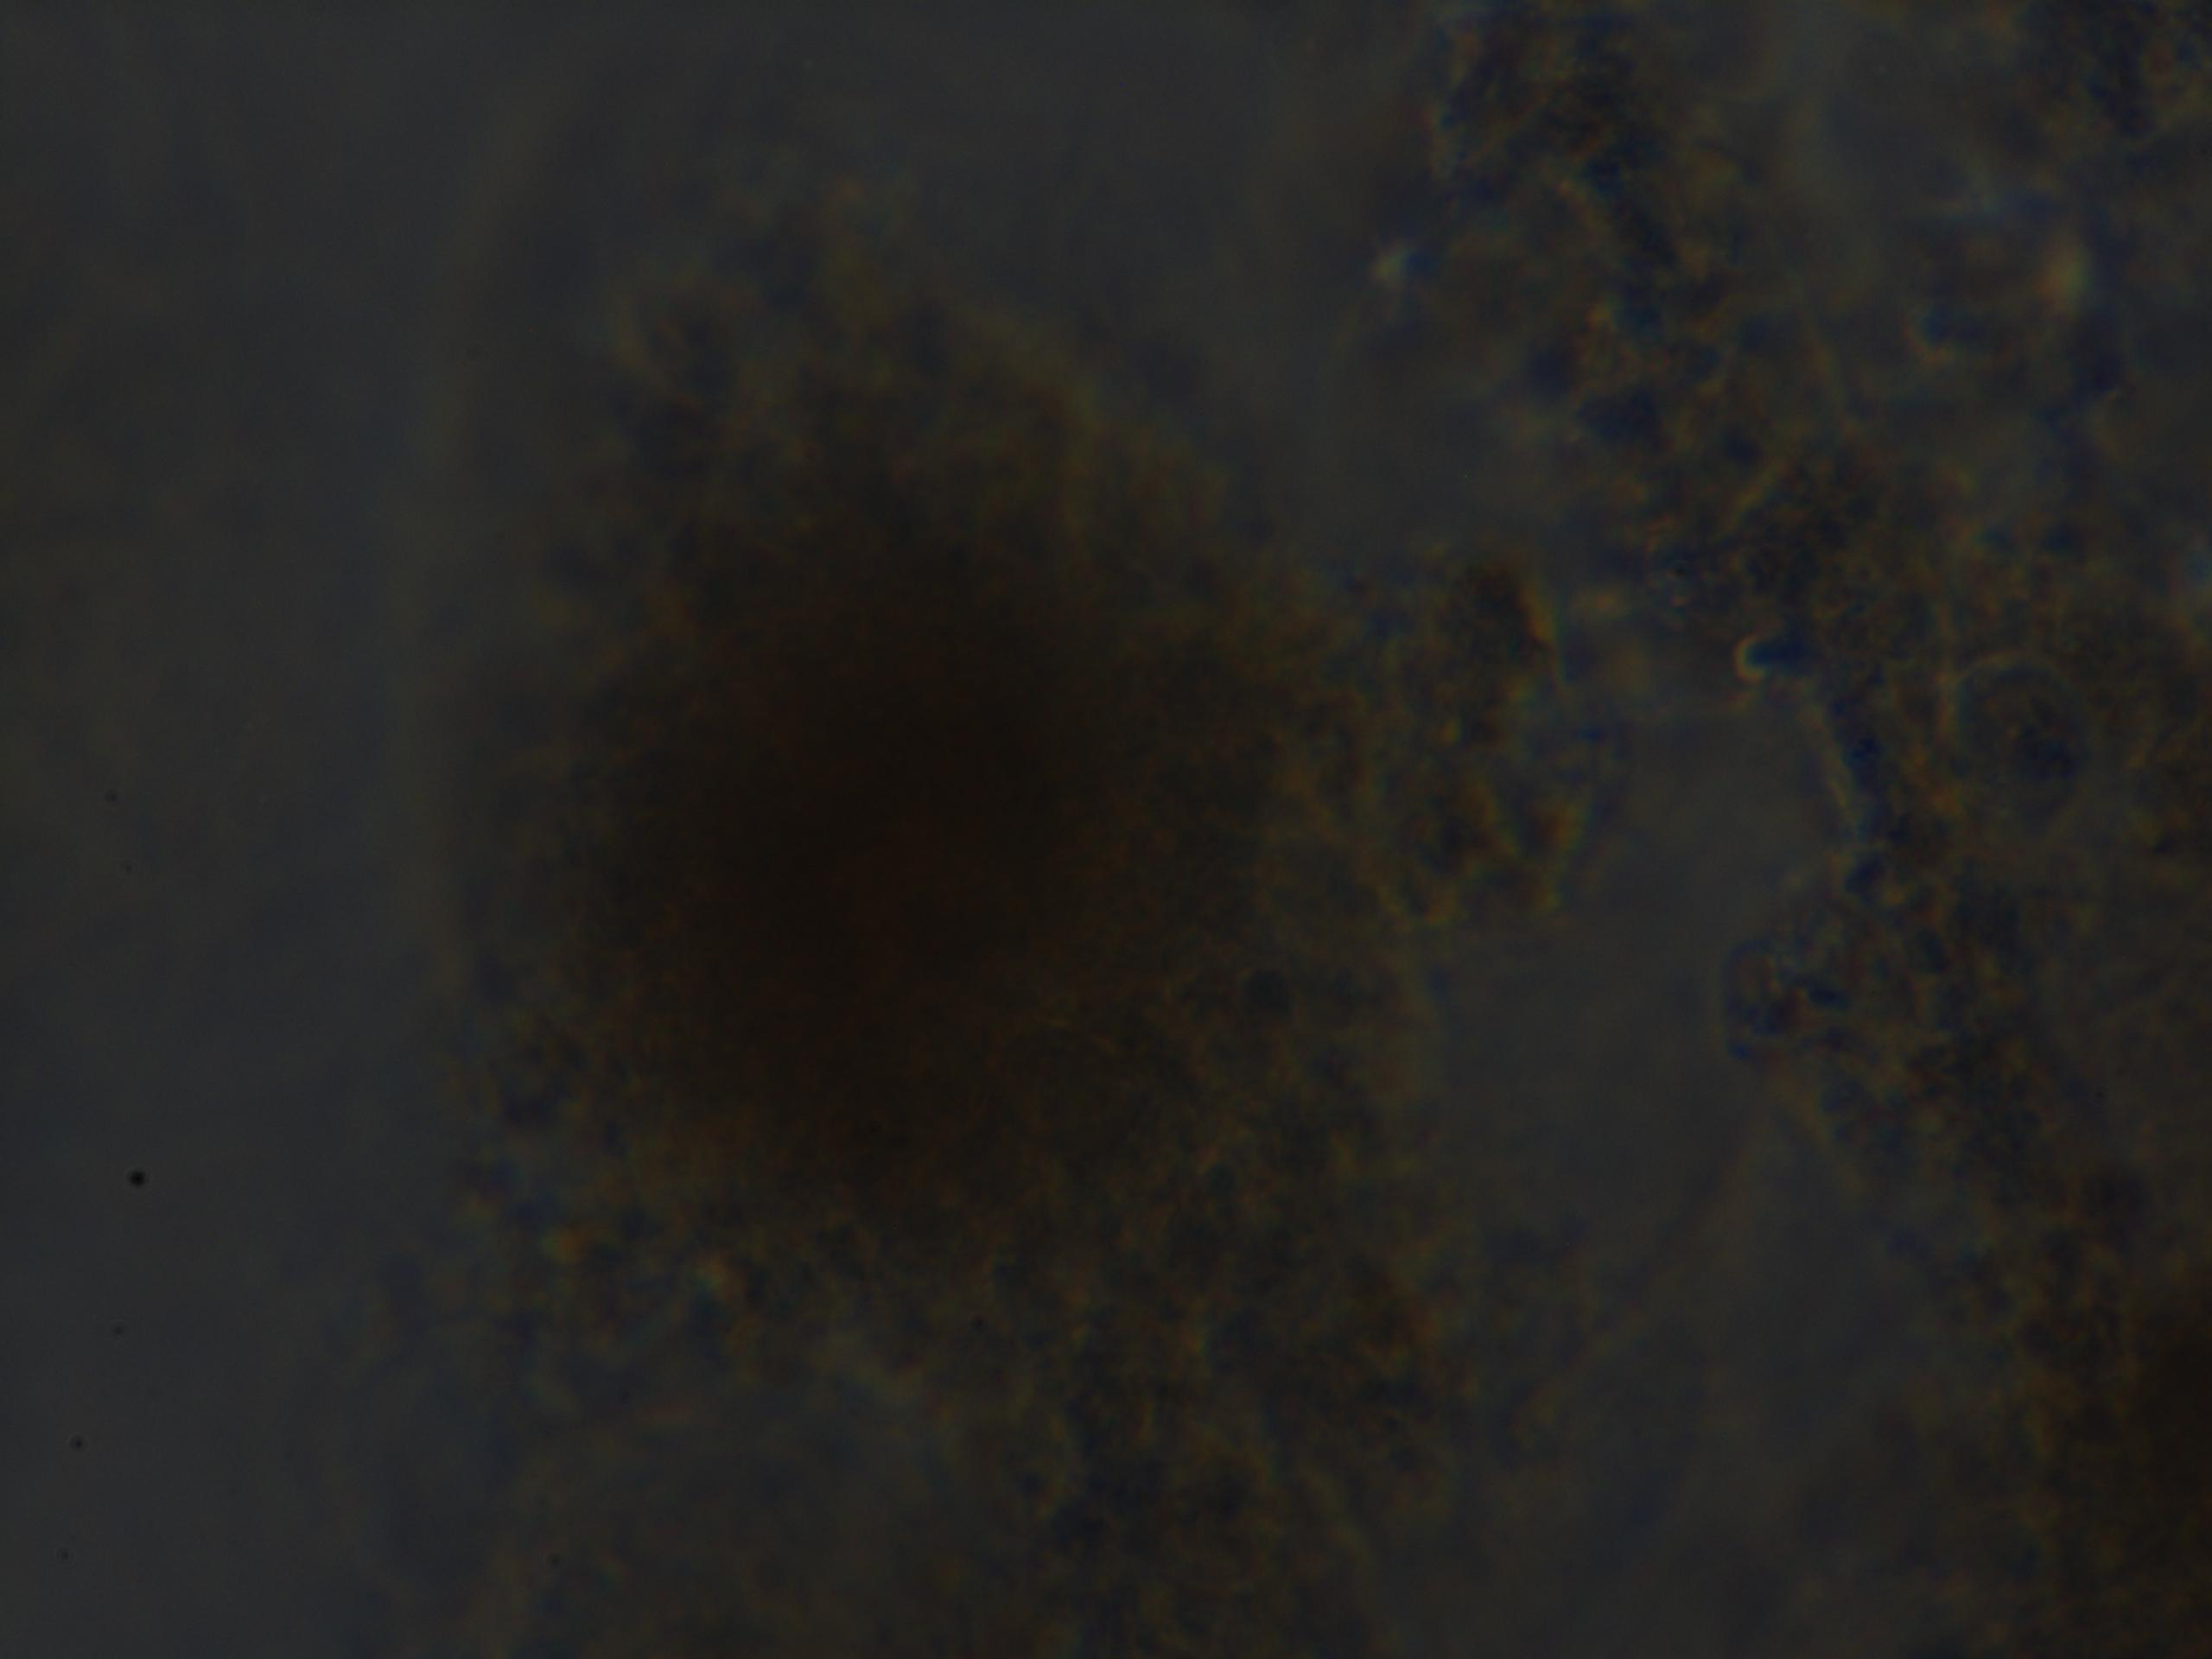spherical_floc: (498, 279, 1364, 1466)
